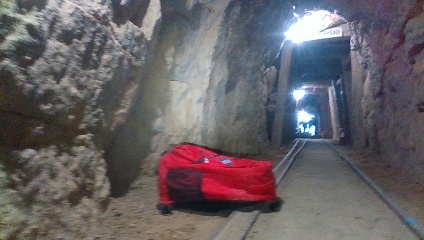backpack: (153, 141, 281, 214)
fire_extinguisher: (338, 126, 347, 146)
